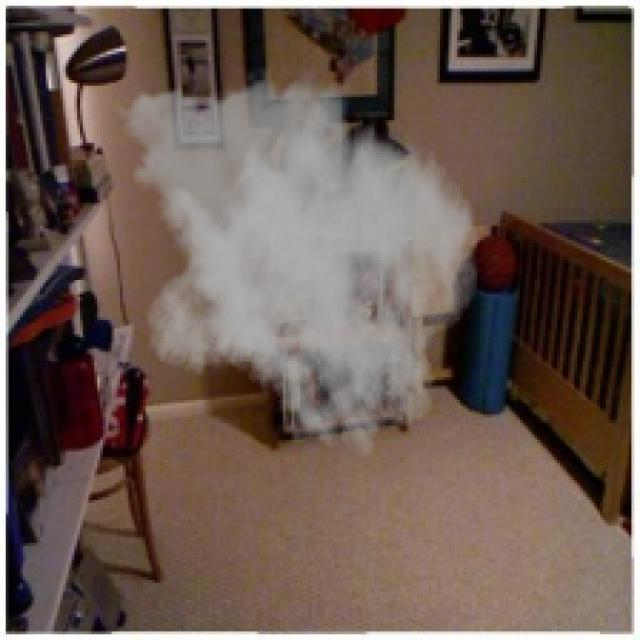Smoke: (108, 66, 480, 460)
